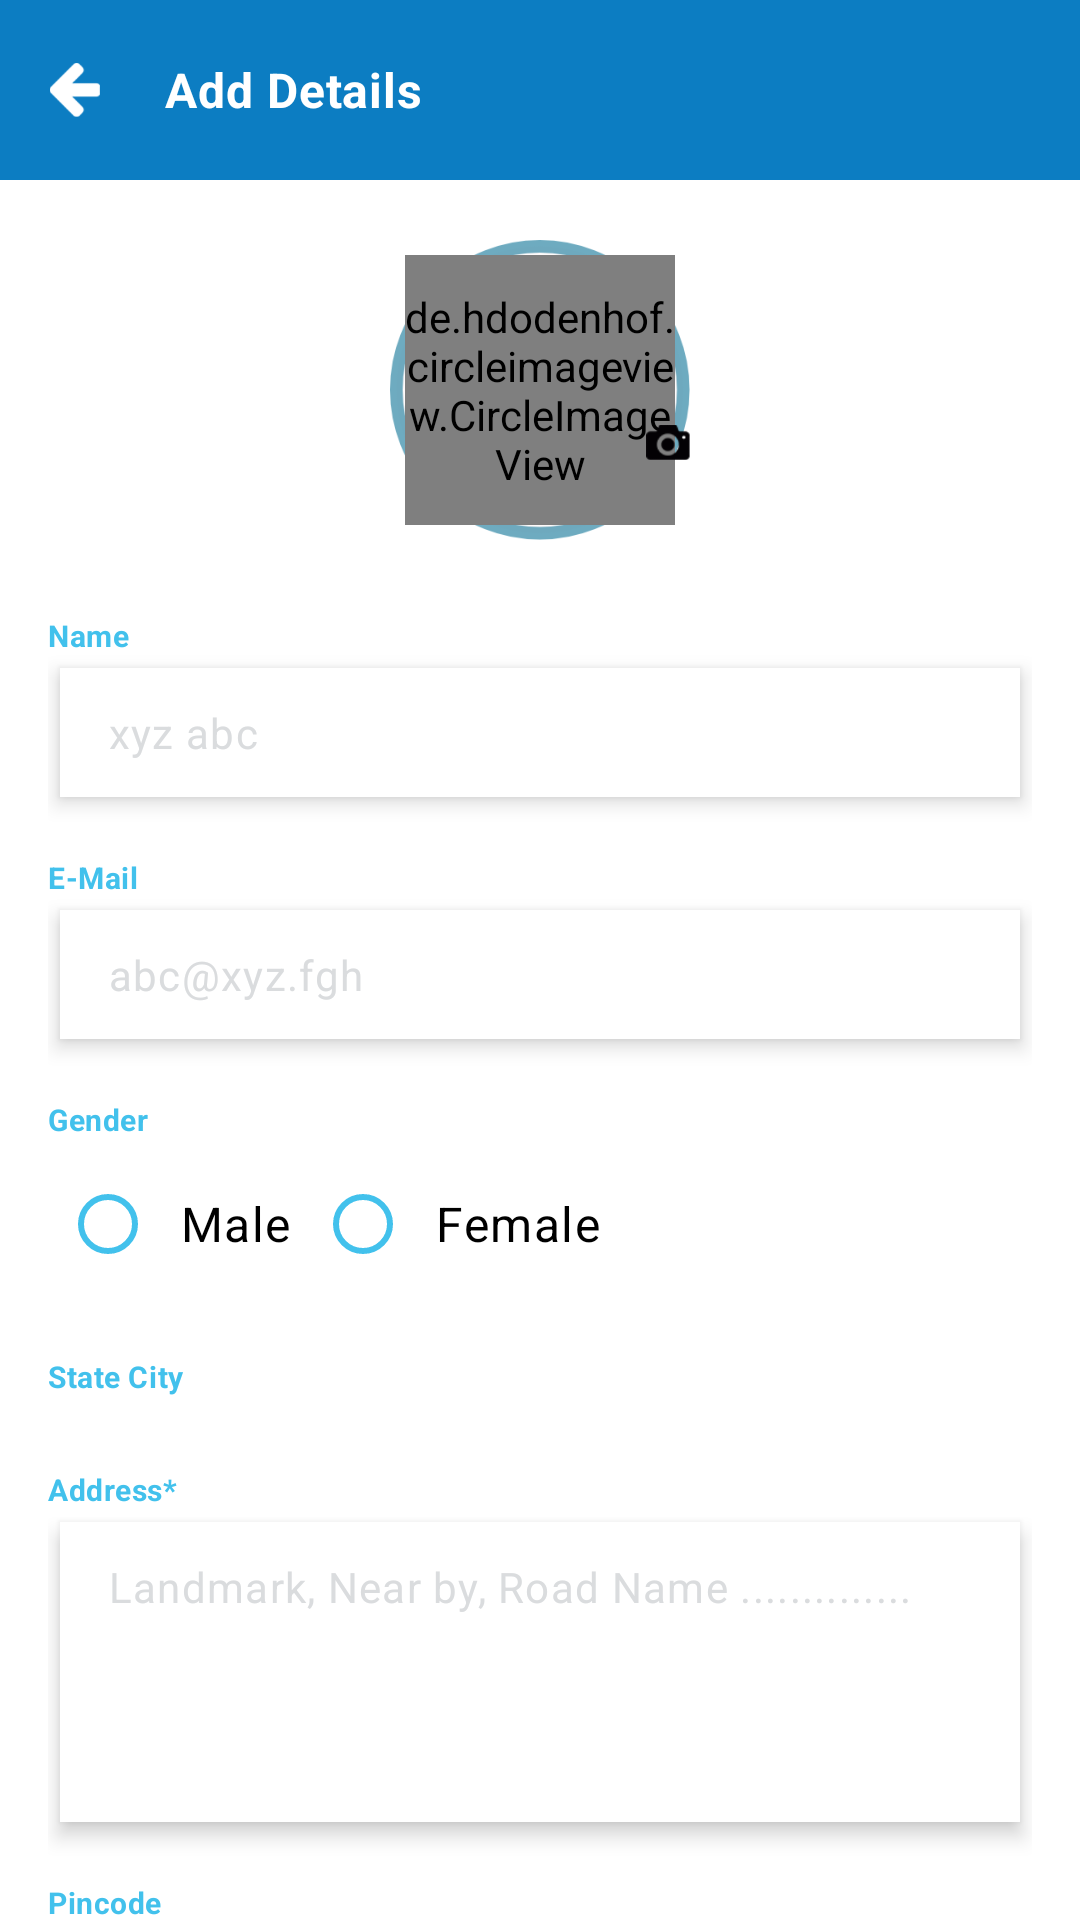

Point at icon controls on the screen. Image size 1080×1920, points as (x=x, y=y).
leftarrow: (x=75, y=90)
